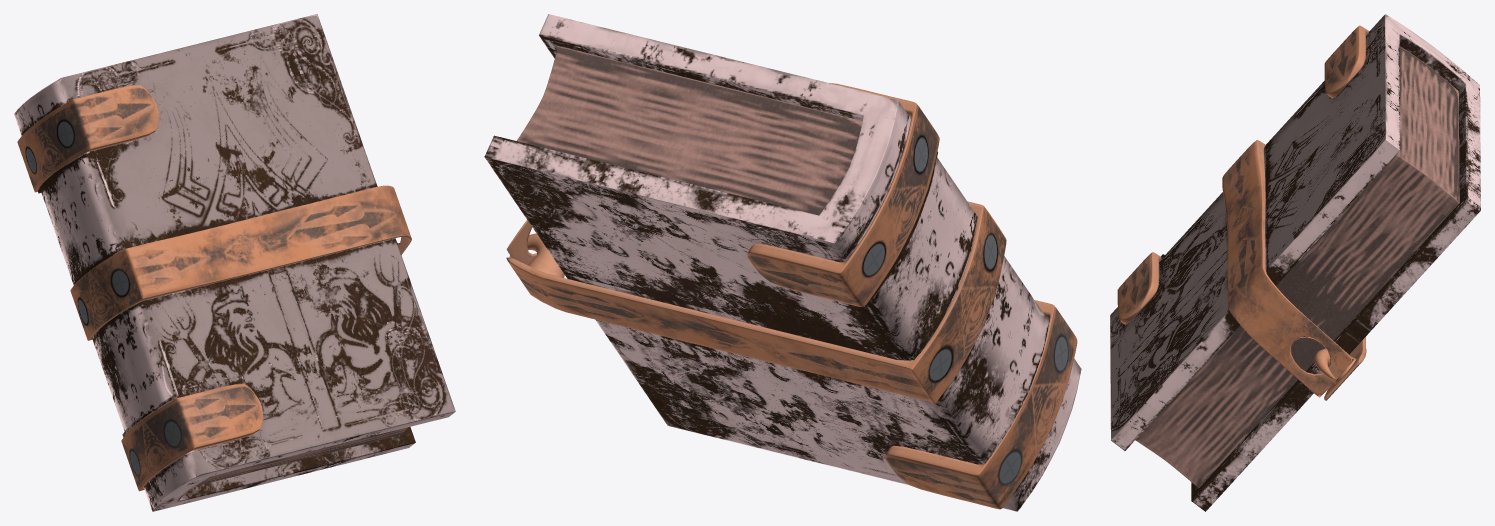
The picture shows the model from 3 angles, left to right: view 1: azimuth 30°, elevation 25°; view 2: azimuth 150°, elevation 25°; view 3: azimuth 270°, elevation 25°; orthographic projection. The views are drawn at different scales.
Visible parts, largest first — view 1: Cover, Latch, Side_Latch3, Side_Latch5, Pages; view 2: Cover, Pages, Latch, Side_Latch5, Side_Latch3, Latch_Hook; view 3: Cover, Pages, Latch, Side_Latch5, Side_Latch3, Latch_Hook.
Part boxes in pixels (<box>): Cover: <box>14,14,455,511</box>; Latch: <box>70,185,411,340</box>; Side_Latch3: <box>121,384,262,491</box>; Side_Latch5: <box>17,85,158,192</box>; Pages: <box>195,427,407,486</box>; Cover: <box>484,14,1081,511</box>; Pages: <box>517,46,862,215</box>; Latch: <box>506,201,1006,403</box>; Side_Latch5: <box>747,83,939,306</box>; Side_Latch3: <box>885,300,1077,509</box>; Latch_Hook: <box>509,233,564,277</box>; Cover: <box>1110,14,1480,511</box>; Pages: <box>1135,46,1459,488</box>; Latch: <box>1222,140,1366,400</box>; Side_Latch5: <box>1324,25,1369,98</box>; Side_Latch3: <box>1117,252,1160,324</box>; Latch_Hook: <box>1314,348,1356,383</box>.
Bounding box in the file's own units: 1.74 × 1.91 × 1.72.
1 material, 1 textured.
